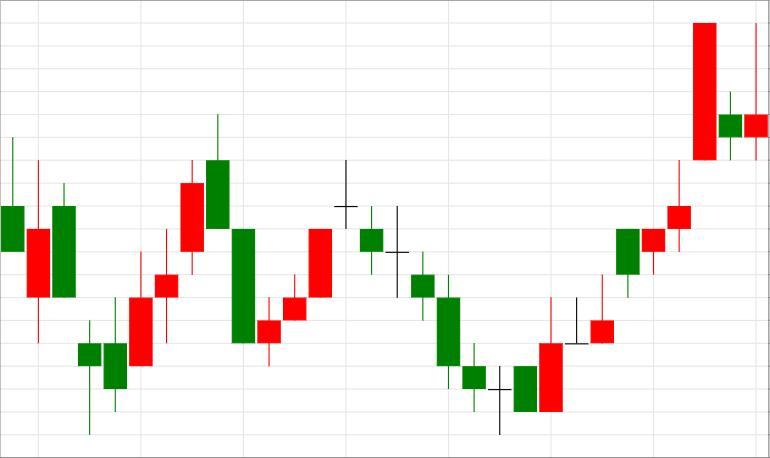bullish_engulfing_rise: (334, 159, 562, 436)
